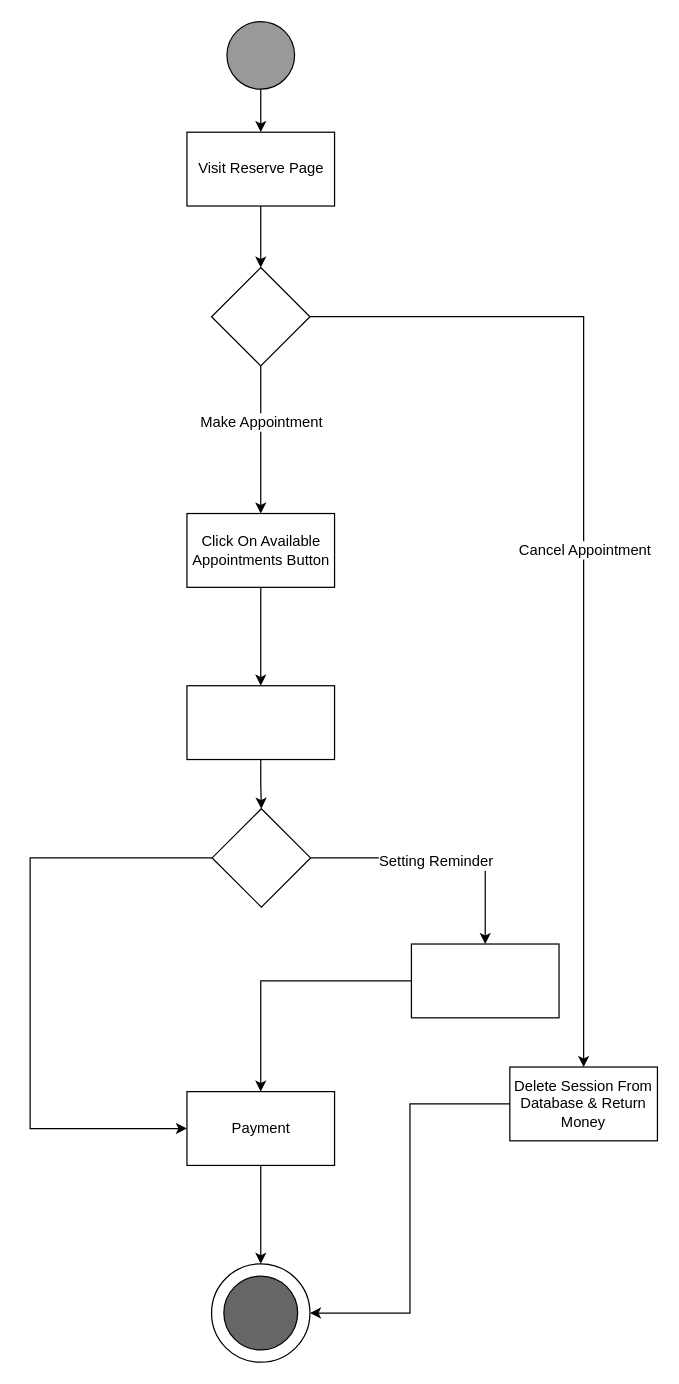
Image size: 679x1384. Some labels were removed from this diagram. Each missing label, with the centre of its shape:
"Select From Available Appointments" goes at point 260,722.
"Set Reminder Time" goes at point 484,980.
